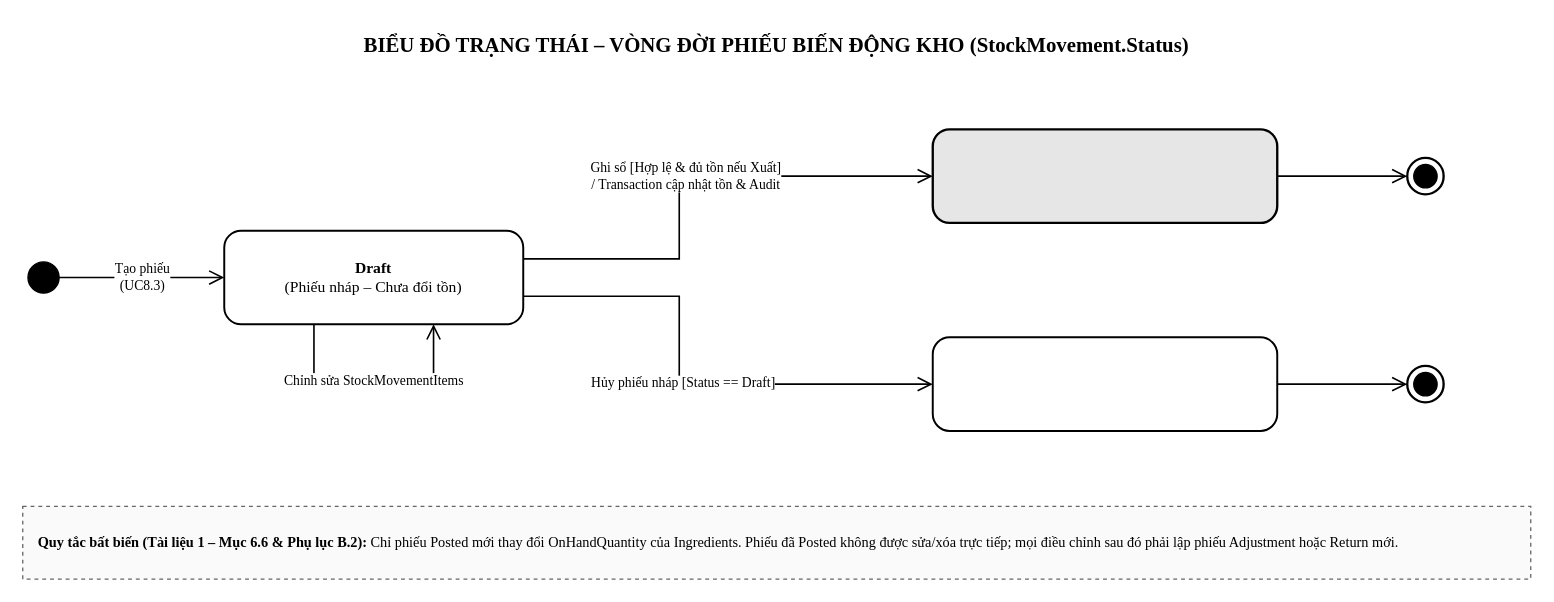
The diagram is 1554 pixels wide and 602 high, and some of its shapes have lost their labels. Each missing label, with the centre of its shape:
"Cancelled (Đã hủy phiếu nháp)" belongs at [1104,383].
"Posted (Đã ghi sổ – Bất biến, đã đổi tồn)" belongs at [1104,175].
